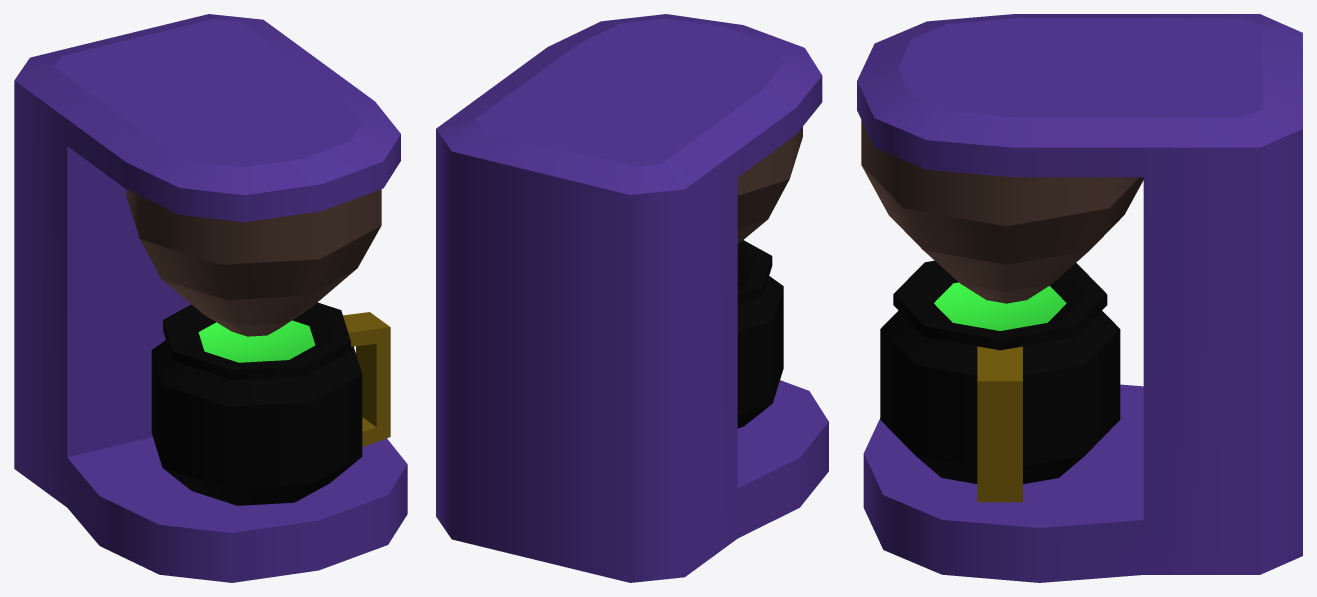
The model's file is coffeemachine_darkgrey.fbx.
The picture shows the model from 3 angles, left to right: view 1: azimuth 30°, elevation 25°; view 2: azimuth 150°, elevation 25°; view 3: azimuth 270°, elevation 25°; orthographic projection. The views are drawn at different scales.
Parts seen in each view (by area): view 1: coffeemachine_darkgrey; view 2: coffeemachine_darkgrey; view 3: coffeemachine_darkgrey.
Part boxes in pixels (<box>): coffeemachine_darkgrey: <box>14,14,407,582</box>; coffeemachine_darkgrey: <box>436,14,828,582</box>; coffeemachine_darkgrey: <box>857,14,1302,582</box>.
Size of the model in its own units: 19.57 by 26.82 by 24.62.
